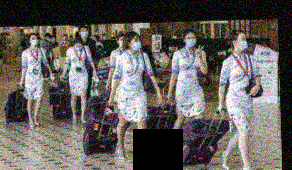with_mask: (129, 37, 142, 51), (184, 34, 197, 48), (237, 35, 248, 51), (79, 28, 88, 39), (29, 36, 38, 47), (73, 44, 83, 51), (118, 37, 124, 48), (62, 34, 67, 39), (159, 51, 164, 56), (51, 36, 55, 41), (46, 36, 50, 40)
